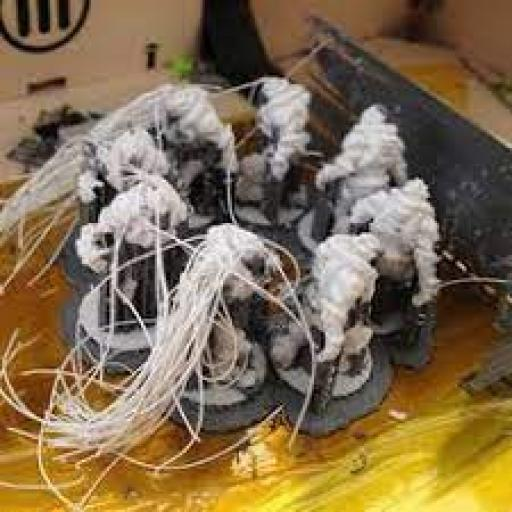spaghetti: (20, 75, 221, 482)
